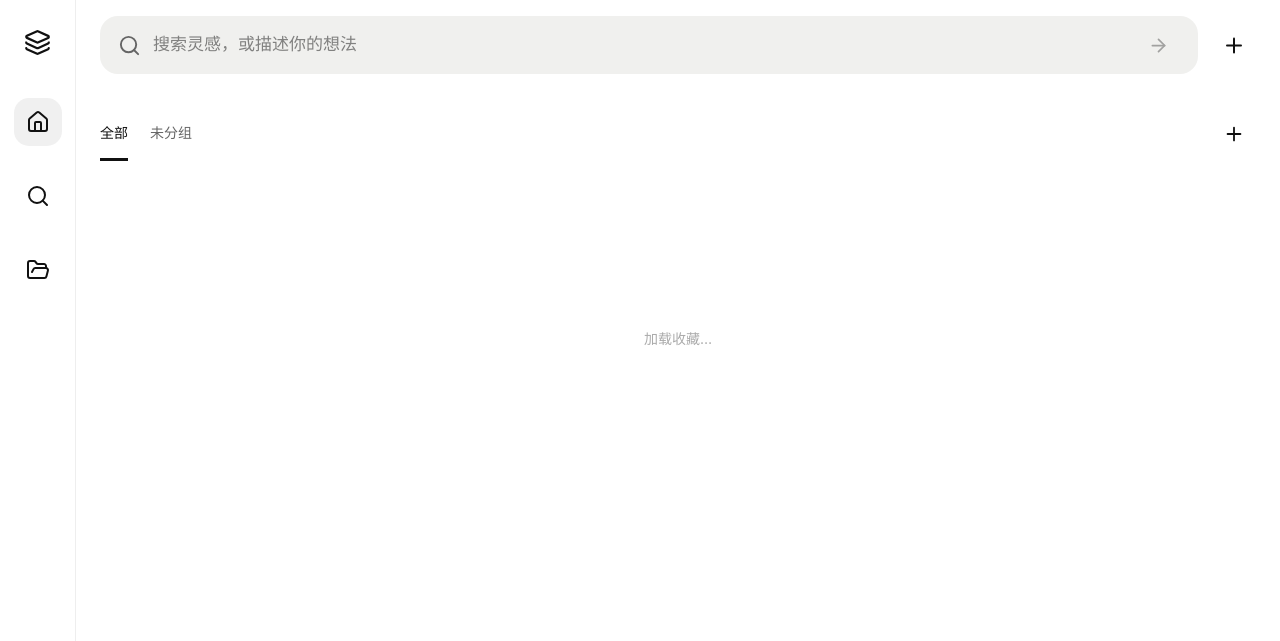
Test: renders brief and switches to candidate view
Expected: the field labelled "搜索灵感" is shown, [153,20,1124,70]
Click the button named "新建情绪板". click: (1234, 45)
box: [1212,23,1256,67]
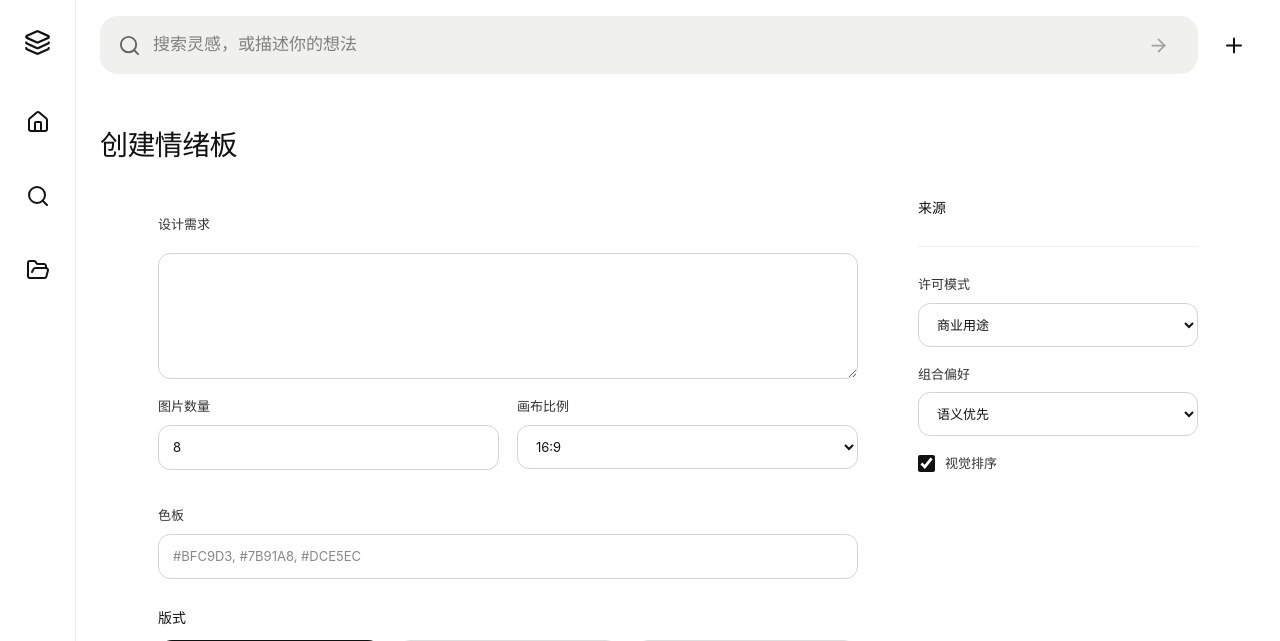
Now the text box labelled "设计需求" is shown, box [158,253,858,380]
